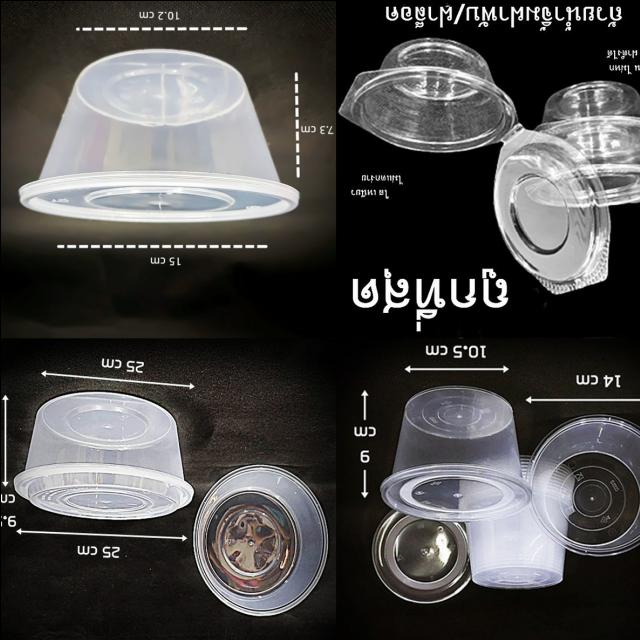plastik: (339, 37, 627, 293), (19, 48, 299, 221), (13, 392, 192, 518), (192, 465, 327, 615), (380, 387, 531, 521), (527, 415, 640, 554), (535, 80, 640, 204), (372, 510, 470, 602)
